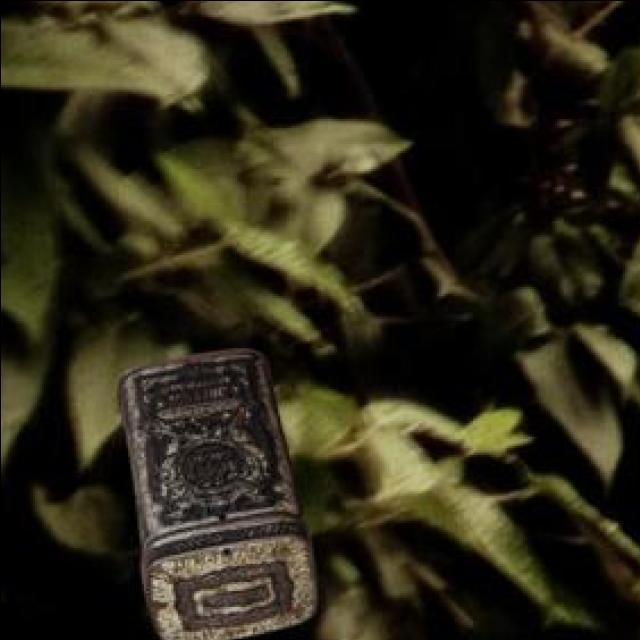logam: (115, 344, 312, 640)
